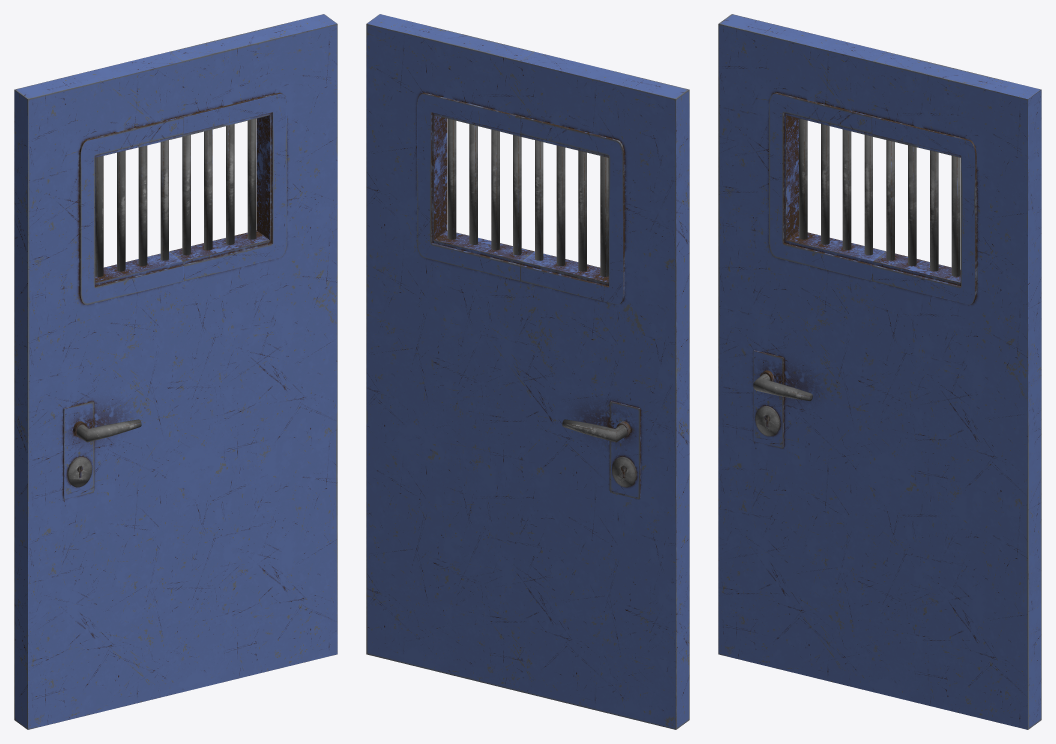
Rendered from doors.glb.
3 renders of one model, left to right at view 1: azimuth 30°, elevation 25°; view 2: azimuth 150°, elevation 25°; view 3: azimuth 330°, elevation 25°, orthographic.
Visible parts, largest first — view 1: Cube; view 2: Cube; view 3: Cube.
Part boxes in pixels (x1,y1,x2,y2): Cube: (14,14,337,729); Cube: (366,14,689,729); Cube: (718,14,1041,729).
Size of the model in its own units: 4.54 by 8.83 by 0.9862.
1 material, 1 textured.
